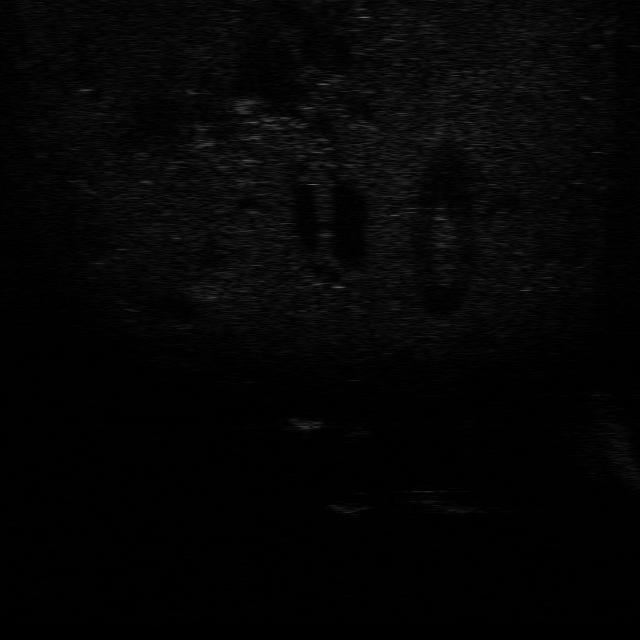cube: (330, 489, 372, 516)
square cage: (279, 402, 329, 438)
tyre: (425, 480, 495, 520)
